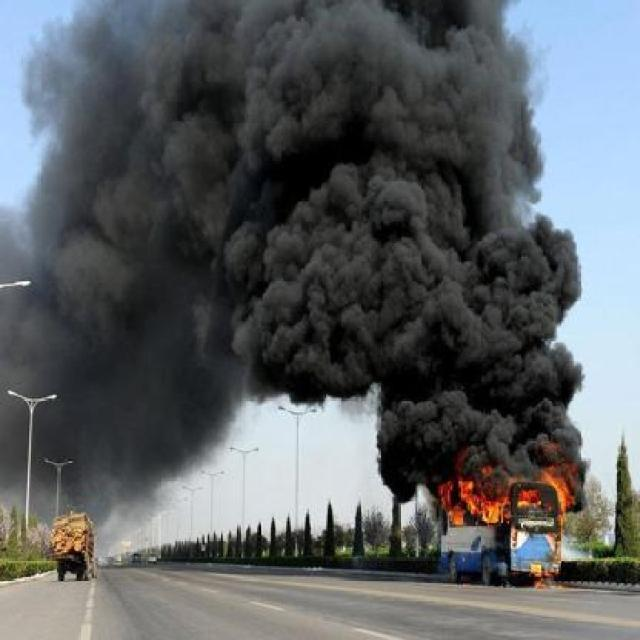Fire: (438, 452, 580, 586)
Smoke: (12, 27, 586, 464)
